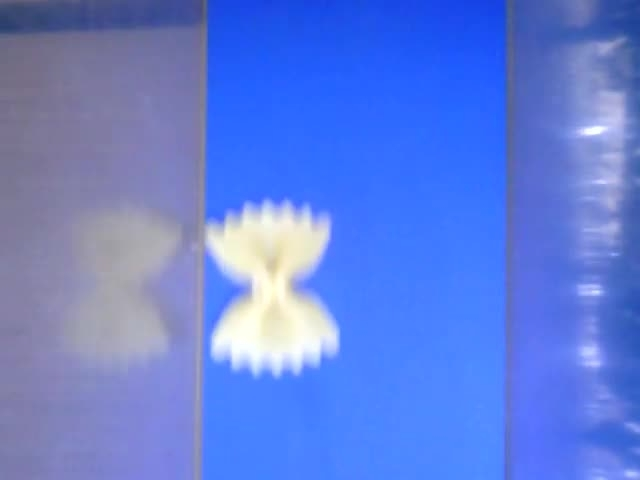farfalle: (206, 200, 341, 375)
